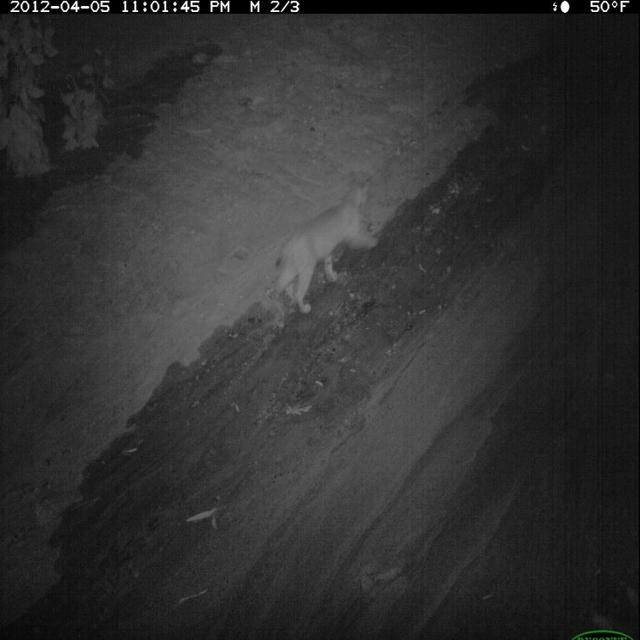bobcat: (270, 174, 384, 318)
